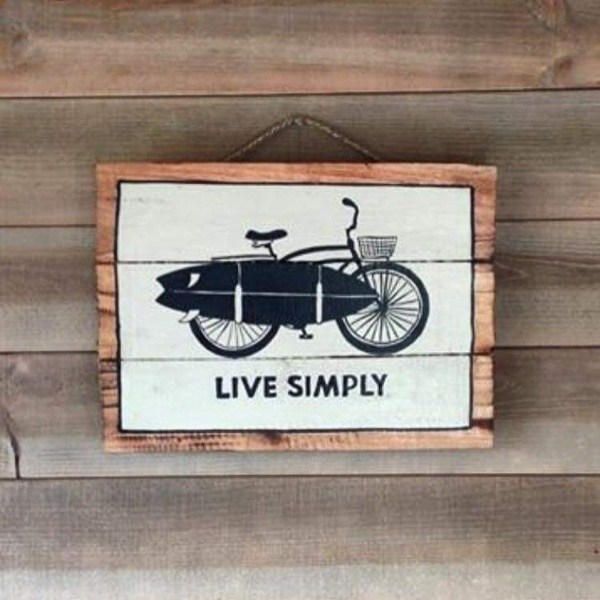text: (225, 375, 240, 400), (241, 375, 256, 400), (257, 375, 272, 400), (289, 373, 304, 398), (305, 373, 320, 398), (321, 373, 336, 398), (337, 373, 352, 398), (353, 373, 368, 398), (369, 373, 384, 398), (215, 375, 224, 400), (273, 375, 278, 400), (385, 373, 388, 398), (287, 373, 288, 398)
